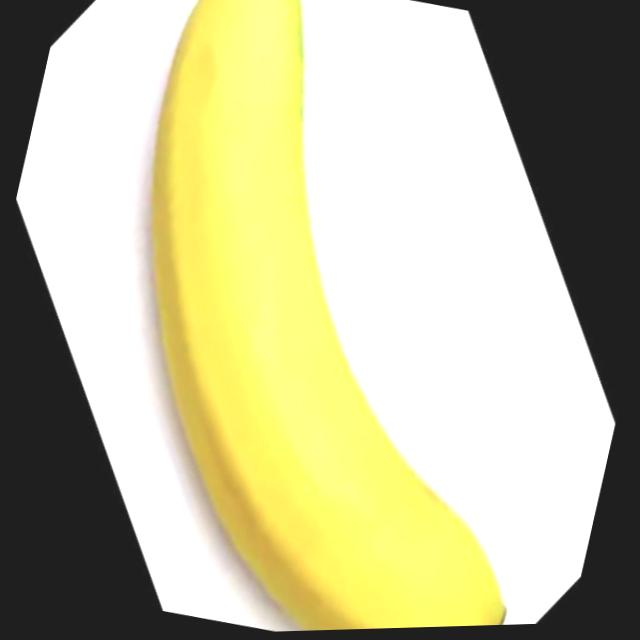Banana: (53, 0, 638, 639)
